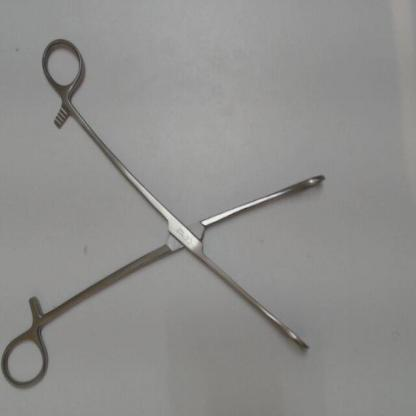Sponge Forceps: (1, 29, 337, 390)
